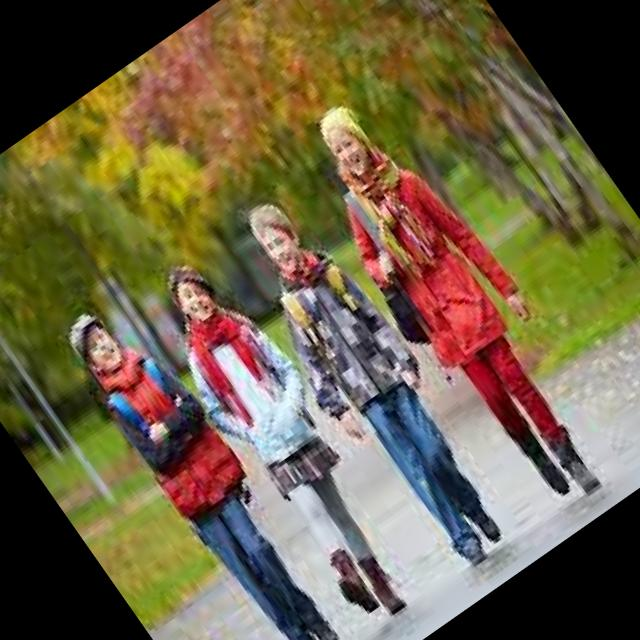Person: (273, 80, 637, 526), (207, 181, 532, 584), (124, 240, 444, 636), (53, 289, 363, 640)
